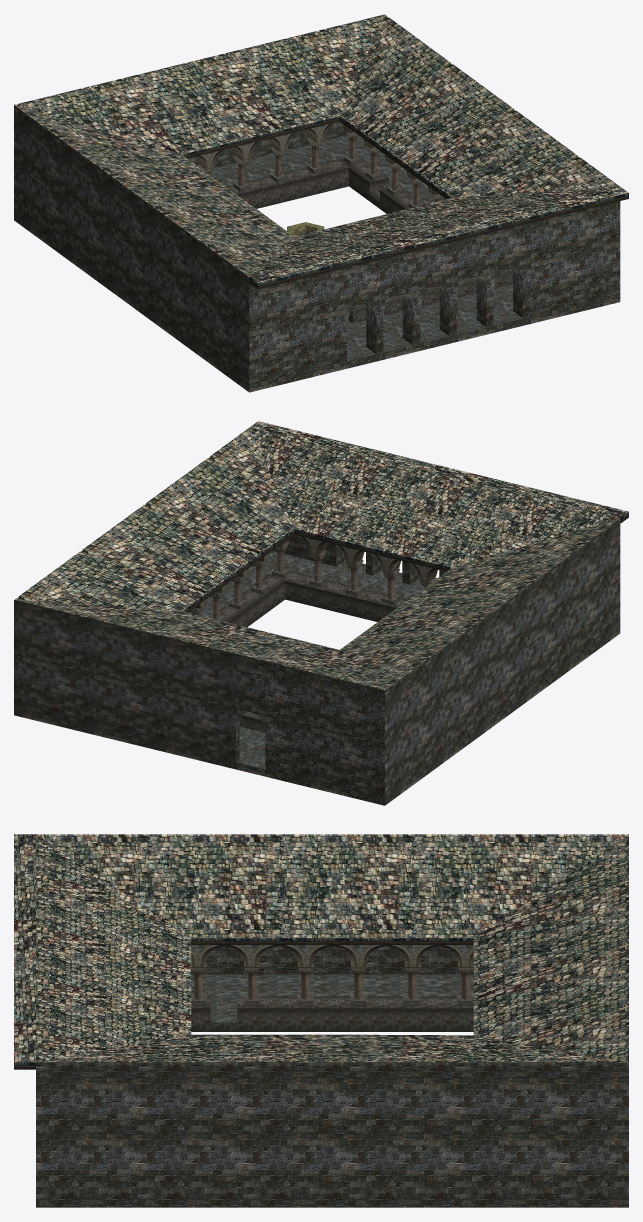
File: tn2_cluatr.glb
3 views of the same model, one above another, from view 1: azimuth 30°, elevation 25°; view 2: azimuth 150°, elevation 25°; view 3: azimuth 270°, elevation 25° (orthographic). The views are drawn at different scales.
Parts seen in each view (by area): view 1: tn2_cluatr; view 2: tn2_cluatr; view 3: tn2_cluatr.
Part boxes in pixels (left/top/right/bottom): tn2_cluatr: left=14, top=14, right=628, bottom=392; tn2_cluatr: left=14, top=421, right=628, bottom=805; tn2_cluatr: left=14, top=834, right=628, bottom=1207.
Bounding box in the file's own units: 17.59 × 6.01 × 20.06.
Materials: 18 (18 with a texture image).
